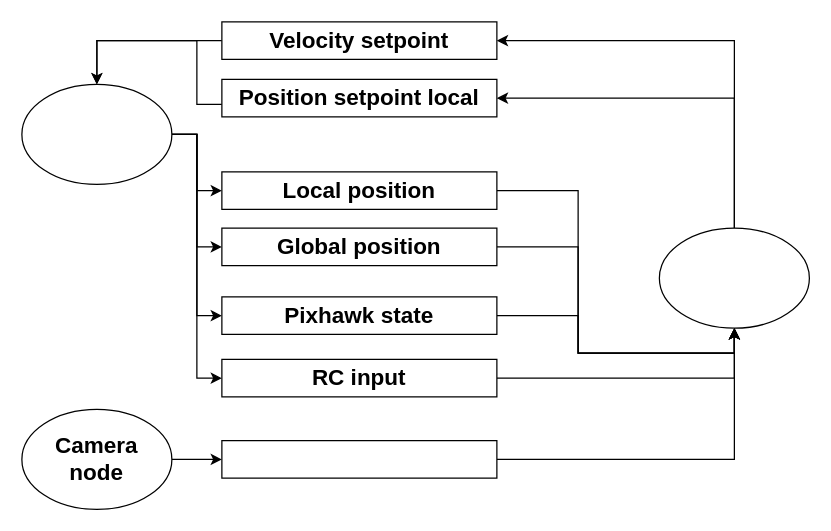
This 831x531 diagram has some shape labels left out. Here are the shapes that lost their labels. From the top down, the centre of each, then its label:
the point at 96,133: MAVROS node
the point at 733,277: UAV control node
the point at 359,458: Image
